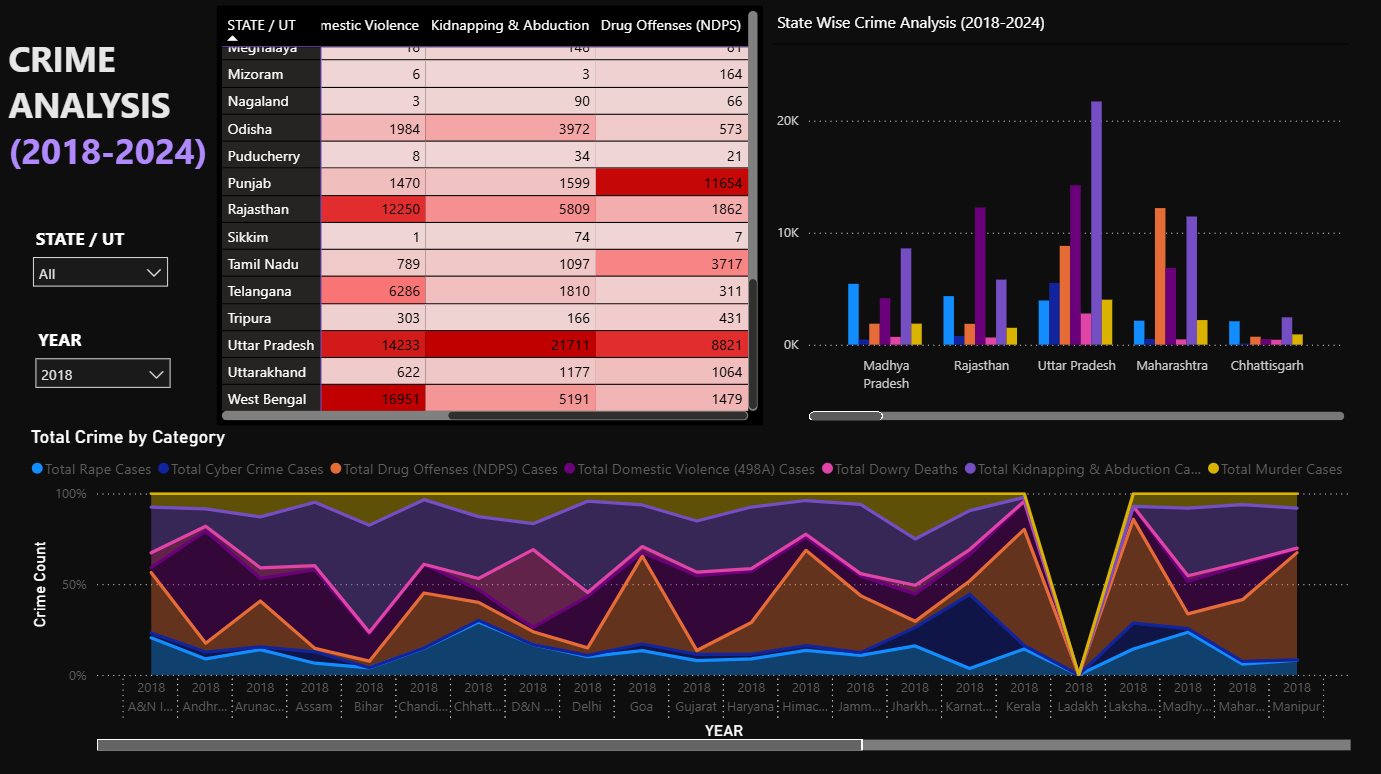

This screenshot's page, from the dashboard's own definition file:
{"tool":"powerbi","page":{"name":"Overview","canvas":[1280,720],"ordinal":0},"visuals":[{"type":"slicer","fields":{"Values":["NCRB Data 2018-2024 (3).STATE / UT"]},"box":[21.7,206.3,145,73.3],"z":1000,"group":"g1"},{"type":"textbox","box":[5,30,196.7,233.3],"z":2000},{"type":"slicer","fields":{"Values":["NCRB Data 2018-2024 (3).YEAR"]},"box":[23.9,299.4,145,70],"z":2000,"group":"g1"},{"type":"slicer","box":[705.2,538.5,145,72.7],"z":3000,"group":"g1"},{"type":"slicer","fields":{"Values":["car_data.Engine"]},"box":[703.6,547.6,145,72.7],"z":4000,"group":"g1"},{"type":"clusteredColumnChart","title":"State Wise Crime Analysis (2018-2024)","fields":{"Category":["NCRB Data 2018-2024 (3).STATE / UT"],"Y":["Sum(NCRB Data 2018-2024 (3).Rape)","Sum(NCRB Data 2018-2024 (3).Cyber Crime)","Sum(NCRB Data 2018-2024 (3).Drug Offenses (NDPS))","Sum(NCRB Data 2018-2024 (3).Domestic Violence (498A))","Sum(NCRB Data 2018-2024 (3).Dowry Deaths)","Sum(NCRB Data 2018-2024 (3).Kidnapping & Abduction)","Sum(NCRB Data 2018-2024 (3).Murder)"]},"box":[715.7,12.9,534.3,382.9],"z":7000},{"type":"group","id":"g1","title":"Group 3","box":[21.7,206.3,828.8,413.8],"z":9000},{"type":"actionButton","box":[48.4,490.3,152.9,59.6],"z":10000},{"type":"pivotTable","fields":{"Rows":["NCRB Data 2018-2024 (3).STATE / UT"],"Values":["Min(NCRB Data 2018-2024 (3).Rape)","Min(NCRB Data 2018-2024 (3).Murder)","Min(NCRB Data 2018-2024 (3).Dowry Deaths)","Min(NCRB Data 2018-2024 (3).Cyber Crime)","Min(NCRB Data 2018-2024 (3).Domestic Violence (498A))","Min(NCRB Data 2018-2024 (3).Kidnapping & Abduction)","Min(NCRB Data 2018-2024 (3).Drug Offenses (NDPS))"]},"box":[201.7,8.3,505,388.3],"z":11000},{"type":"hundredPercentStackedAreaChart","title":"Total Crime by Category","fields":{"Category":["NCRB Data 2018-2024 (3).STATE / UT","NCRB Data 2018-2024 (3).YEAR"],"Y":["Sum(NCRB Data 2018-2024 (3).Rape)","Sum(NCRB Data 2018-2024 (3).Cyber Crime)","Sum(NCRB Data 2018-2024 (3).Drug Offenses (NDPS))","Sum(NCRB Data 2018-2024 (3).Domestic Violence (498A))","Sum(NCRB Data 2018-2024 (3).Dowry Deaths)","Sum(NCRB Data 2018-2024 (3).Kidnapping & Abduction)","Sum(NCRB Data 2018-2024 (3).Murder)"]},"box":[25,396.7,1230,305],"z":13000}]}

Visuals, with their boxes in screenshot pixels (x1, y1, x2, y2), scaled from the page's 1280x720 canvas onto the 1381x774 screenshot:
slicer - NCRB Data 2018-2024 (3).STATE / UT: {"left": 23, "top": 222, "right": 180, "bottom": 301}
textbox: {"left": 5, "top": 32, "right": 218, "bottom": 283}
slicer - NCRB Data 2018-2024 (3).YEAR: {"left": 26, "top": 322, "right": 182, "bottom": 397}
slicer: {"left": 761, "top": 579, "right": 917, "bottom": 657}
slicer - car_data.Engine: {"left": 759, "top": 589, "right": 916, "bottom": 667}
"State Wise Crime Analysis (2018-2024)" clusteredColumnChart: {"left": 772, "top": 14, "right": 1349, "bottom": 425}
"Group 3" group: {"left": 23, "top": 222, "right": 918, "bottom": 667}
actionButton: {"left": 52, "top": 527, "right": 217, "bottom": 591}
pivotTable - NCRB Data 2018-2024 (3).STATE / UT x Min(NCRB Data 2018-2024 (3).Rape): {"left": 218, "top": 9, "right": 762, "bottom": 426}
"Total Crime by Category" hundredPercentStackedAreaChart: {"left": 27, "top": 426, "right": 1354, "bottom": 754}
